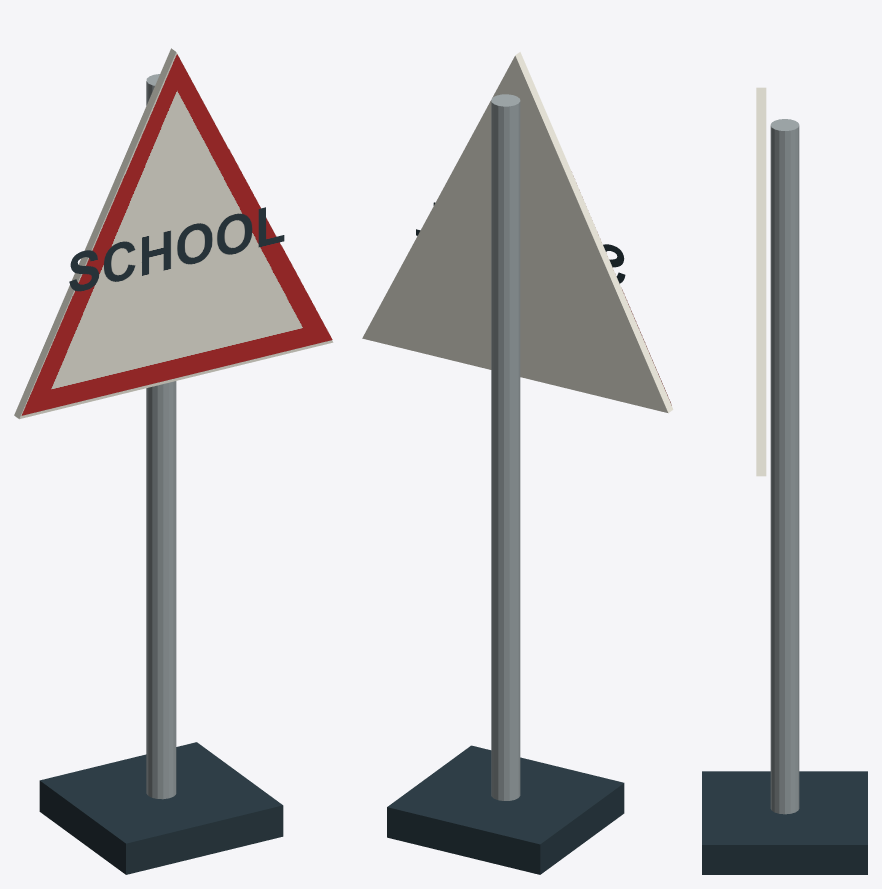
The model's file is scendance-plan-school-children.glb.
3 views of the same model, side by side, from view 1: azimuth 30°, elevation 25°; view 2: azimuth 150°, elevation 25°; view 3: azimuth 270°, elevation 25° (orthographic). The views are drawn at different scales.
Bounding box in the file's own units: 0.84 × 2 × 0.4.
Materials: 4 (1 with a texture image).
